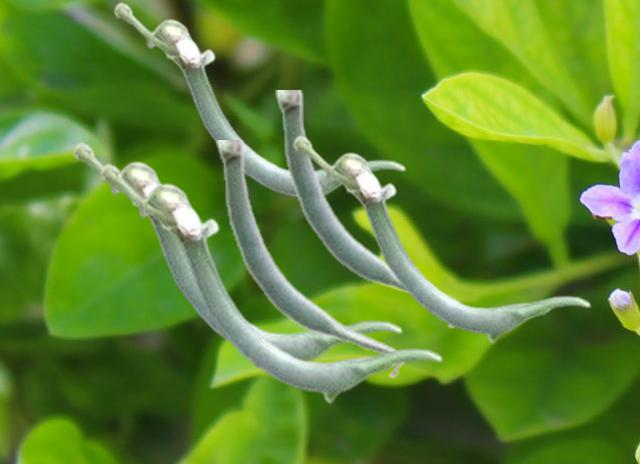french_bean: (99, 162, 442, 403), (72, 141, 402, 359), (292, 134, 590, 343), (113, 1, 405, 200), (216, 140, 405, 379), (275, 90, 463, 329)
